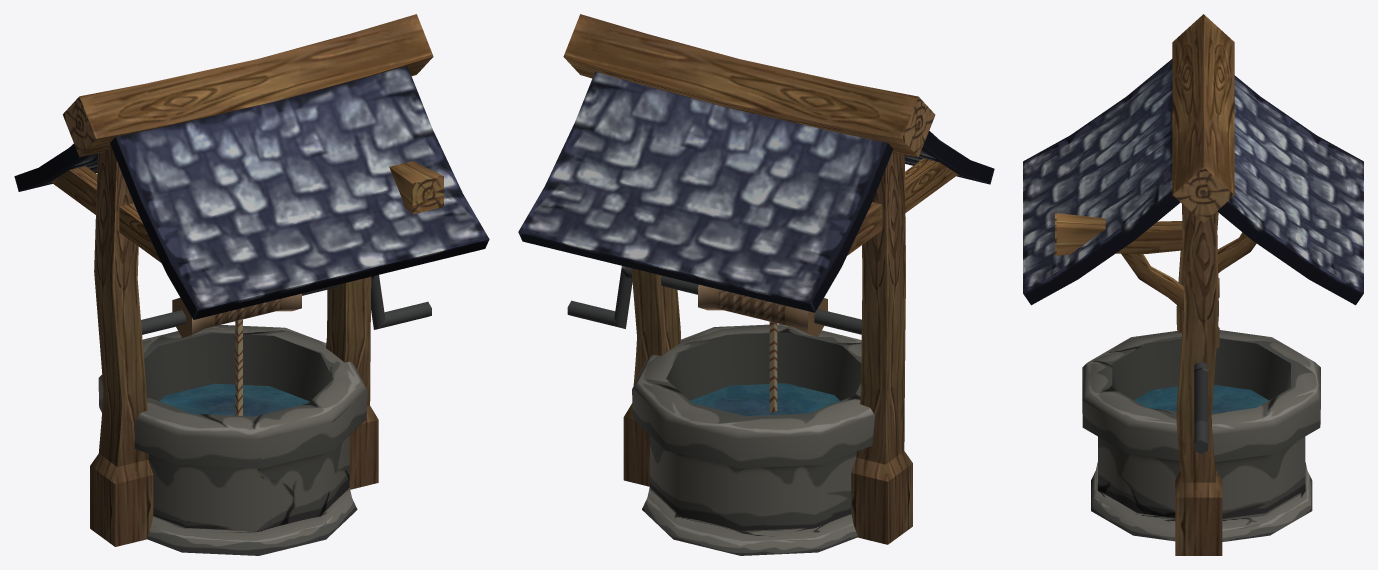
Rendered from fanasty_mod_well.fbx.
3 views of the same model, side by side, from view 1: azimuth 30°, elevation 25°; view 2: azimuth 150°, elevation 25°; view 3: azimuth 270°, elevation 25° (orthographic). The views are drawn at different scales.
Parts seen in each view (by area): view 1: well; view 2: well; view 3: well.
Boxes of the visible parts, box(x1,y1,x2,y2) form: well: box(14, 14, 489, 555); well: box(518, 14, 994, 555); well: box(1023, 14, 1363, 555).
Size of the model in its own units: 4.03 by 4.93 by 3.69.
